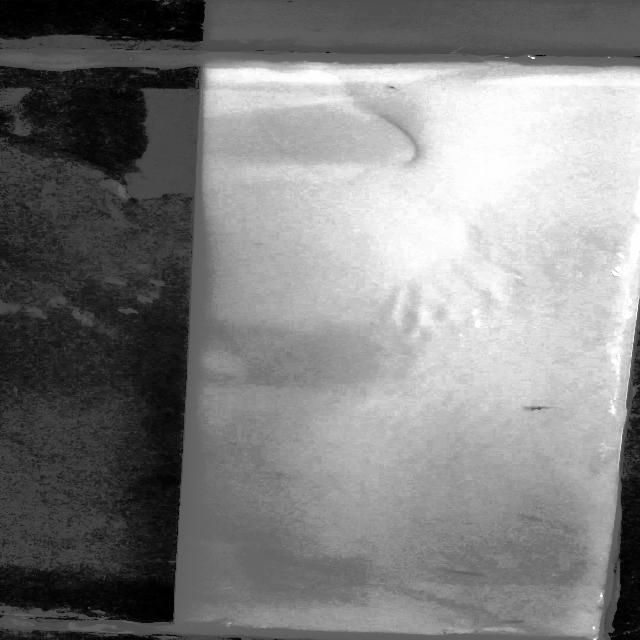shrimp: (511, 401, 562, 416), (379, 82, 402, 95)
